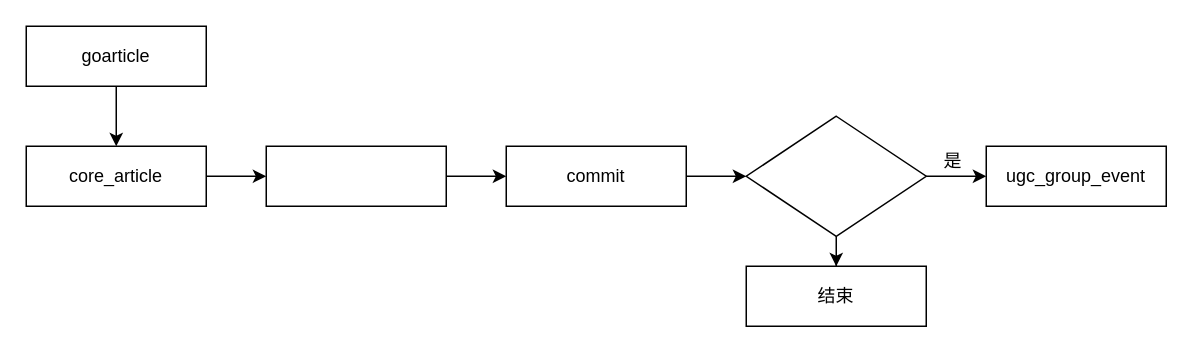
The diagram is 1193 pixels wide and 353 high, and some of its shapes have lost their labels. The shapes that lost their labels are listed below. From the top down, each one's centre as x and y in pixels, then its label:
pixel 355 175: pipeline
pixel 835 175: DisableEvent=false？
